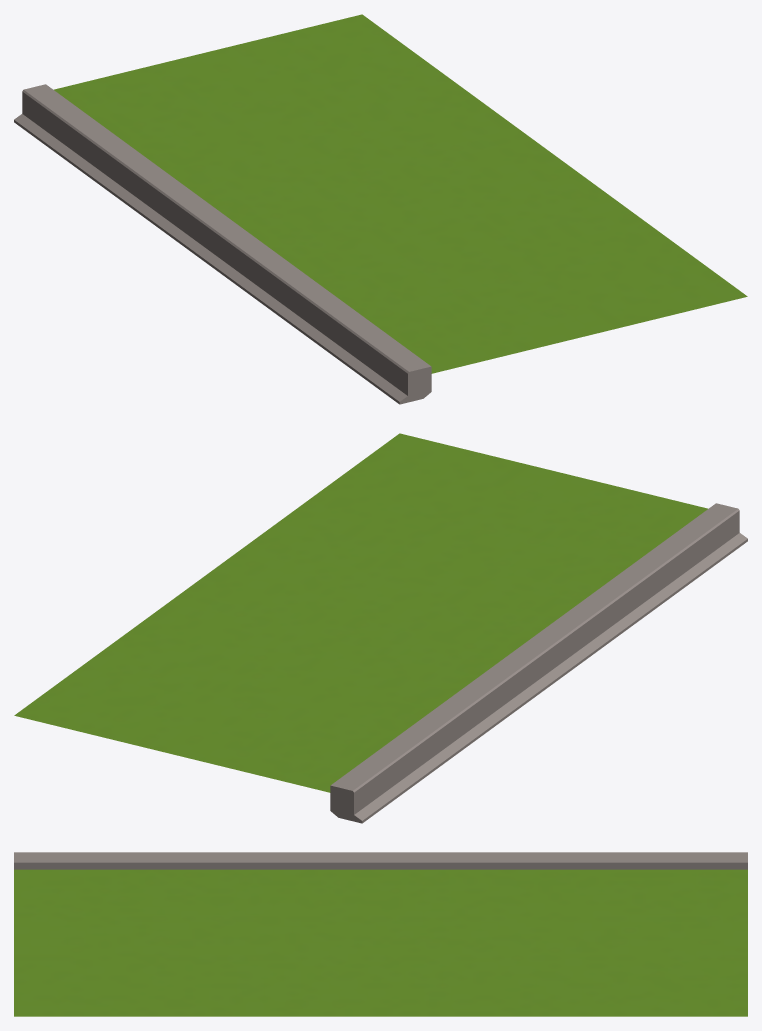
Rendered from GrassPlane_03.fbx.
3 renders of one model, top to bottom at view 1: azimuth 30°, elevation 25°; view 2: azimuth 150°, elevation 25°; view 3: azimuth 270°, elevation 25°, orthographic. The views are drawn at different scales.
Parts seen in each view (by area): view 1: GrassPlane_03; view 2: GrassPlane_03; view 3: GrassPlane_03.
Part boxes in pixels (bbox=[...]): GrassPlane_03: bbox=[14, 14, 747, 404]; GrassPlane_03: bbox=[14, 433, 747, 823]; GrassPlane_03: bbox=[14, 852, 747, 1016].
Size of the model in its own units: 6.26 by 0.5208 by 12.
